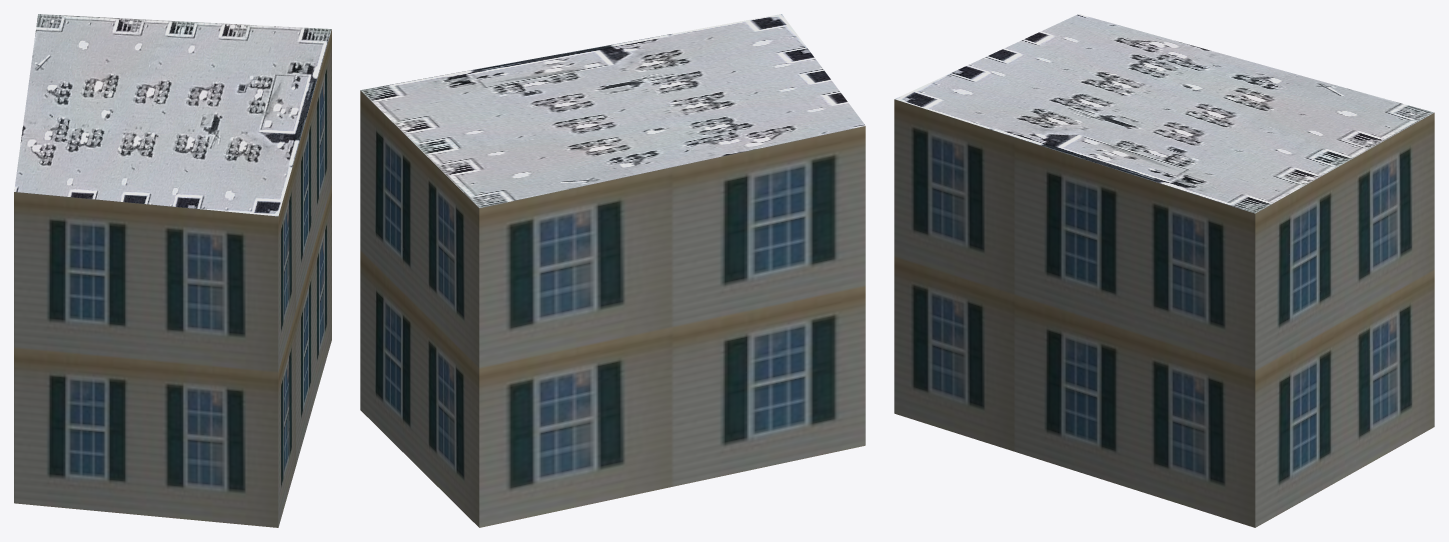
File: ResTex__156.fbx
3 views of the same model, side by side, from view 1: azimuth 30°, elevation 25°; view 2: azimuth 150°, elevation 25°; view 3: azimuth 270°, elevation 25° (orthographic). The views are drawn at different scales.
Parts seen in each view (by area): view 1: CityEngineMaterial_7_m, CityEngineMaterial_15_m; view 2: CityEngineMaterial_7_m, CityEngineMaterial_15_m; view 3: CityEngineMaterial_7_m, CityEngineMaterial_15_m.
Boxes of the visible parts, x1,y1,x2,y2 form: CityEngineMaterial_7_m: (14, 29, 331, 527); CityEngineMaterial_15_m: (14, 14, 331, 216); CityEngineMaterial_7_m: (360, 90, 865, 527); CityEngineMaterial_15_m: (360, 14, 865, 207); CityEngineMaterial_7_m: (894, 99, 1434, 527); CityEngineMaterial_15_m: (895, 14, 1433, 213).
Size of the model in its own units: 8.17 by 6 by 9.34.
Materials: 2 (2 with a texture image).
